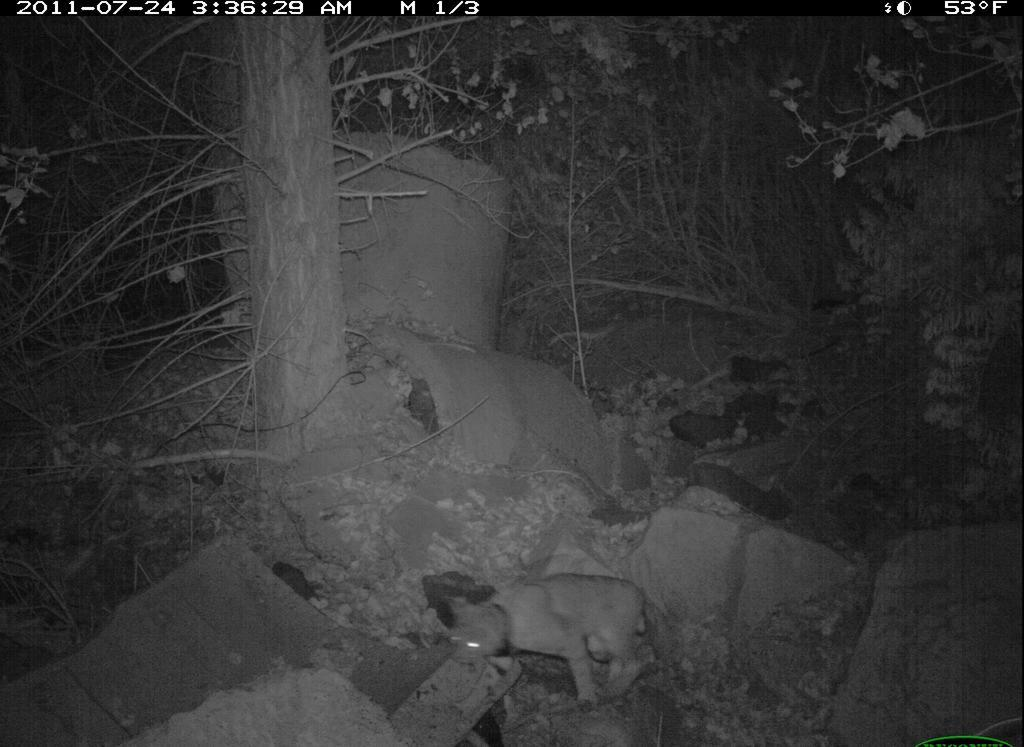bobcat: (437, 570, 678, 712)
